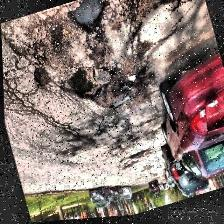pothole: (63, 61, 103, 108), (64, 1, 110, 40), (31, 65, 53, 91), (128, 150, 152, 162)
